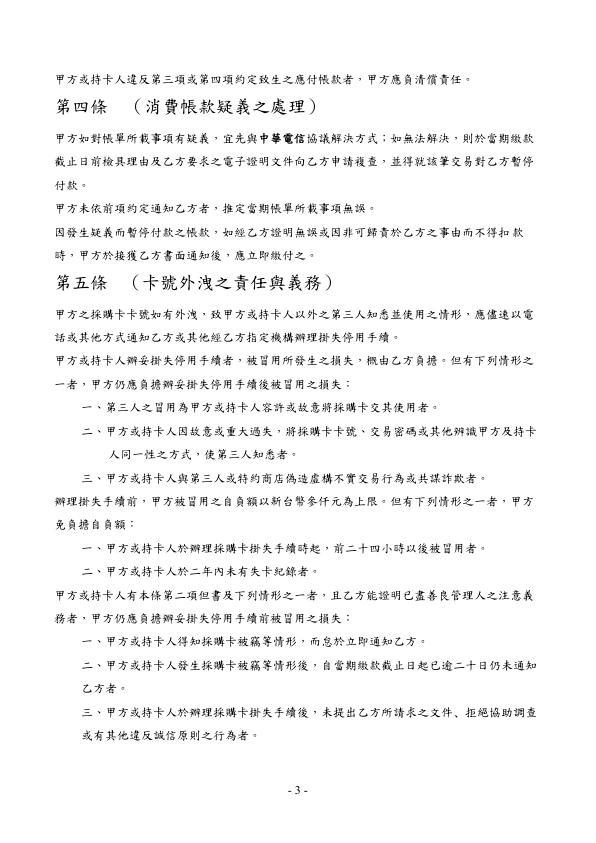text: (51, 584, 541, 745), (48, 351, 547, 488), (49, 493, 535, 578), (48, 200, 529, 265), (51, 129, 539, 193), (50, 306, 537, 345), (52, 69, 473, 89), (49, 270, 335, 294), (52, 95, 322, 118)
